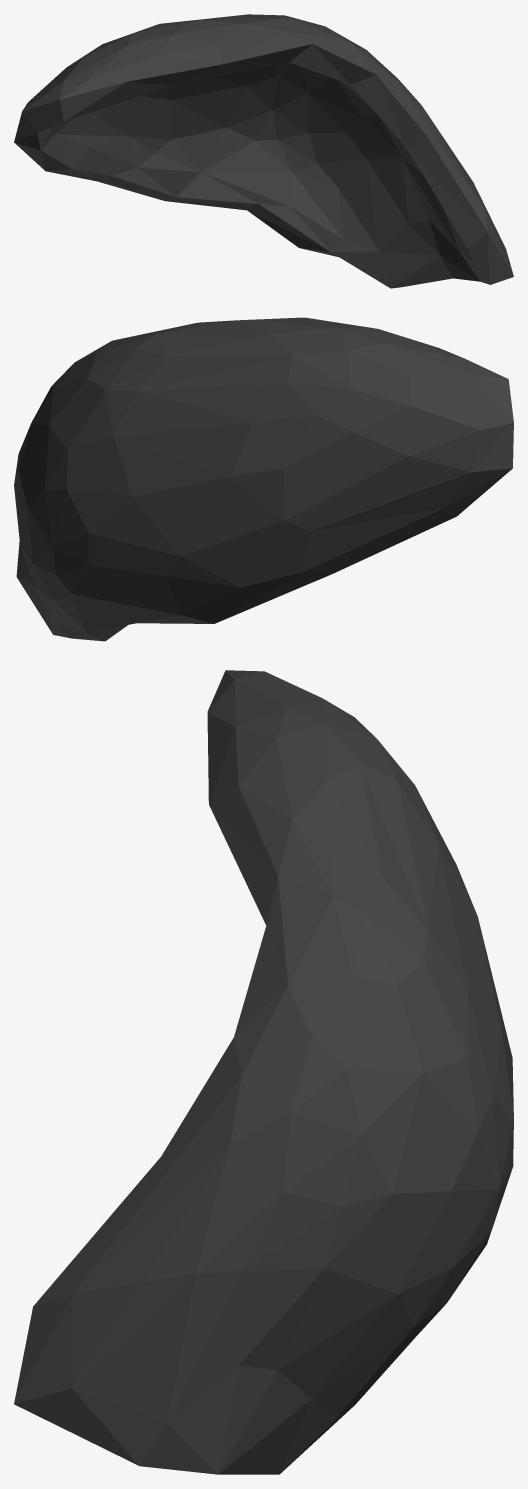
File: Calcaneus_medial_process.glb
The picture shows the model from 3 angles, top to bottom: view 1: azimuth 30°, elevation 25°; view 2: azimuth 150°, elevation 25°; view 3: azimuth 270°, elevation 25°; orthographic projection. The views are drawn at different scales.
Visible parts, largest first — view 1: Calcaneus_medial_process; view 2: Calcaneus_medial_process; view 3: Calcaneus_medial_process.
Boxes of the visible parts, <box> form: Calcaneus_medial_process: <box>14,14,513,288</box>; Calcaneus_medial_process: <box>14,317,513,641</box>; Calcaneus_medial_process: <box>14,670,513,1474</box>.
Size of the model in its own units: 0.0182 by 0.0122 by 0.0103.
Materials: 1 (1 with a texture image).
